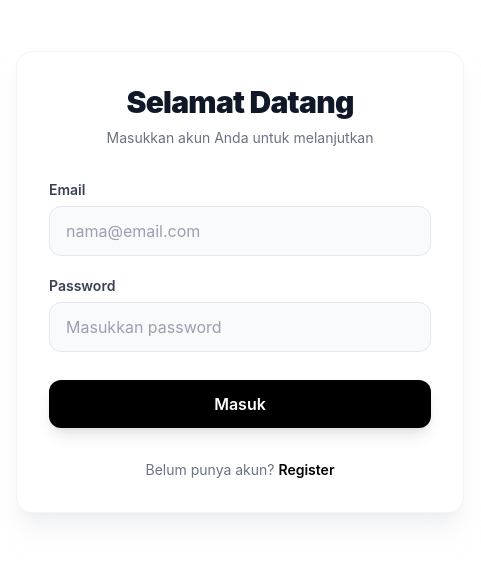
Test case: Login Page Component › TEST 3: Menampilkan pesan validasi jika email kosong
Click the button "Masuk" at (240, 404), box [49, 380, 431, 428]
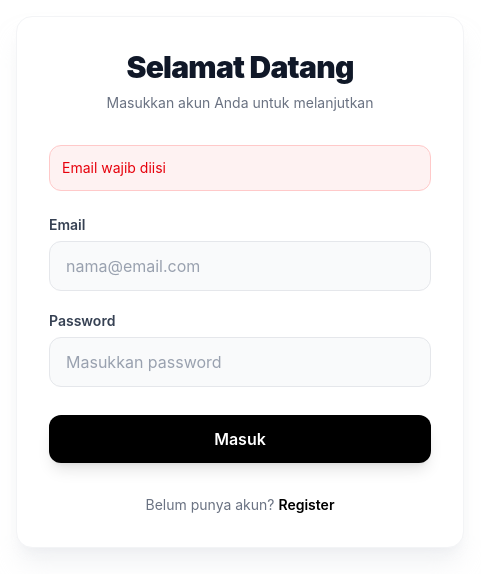
expect the text "Email wajib diisi" is shown: met, box [49, 145, 431, 191]
